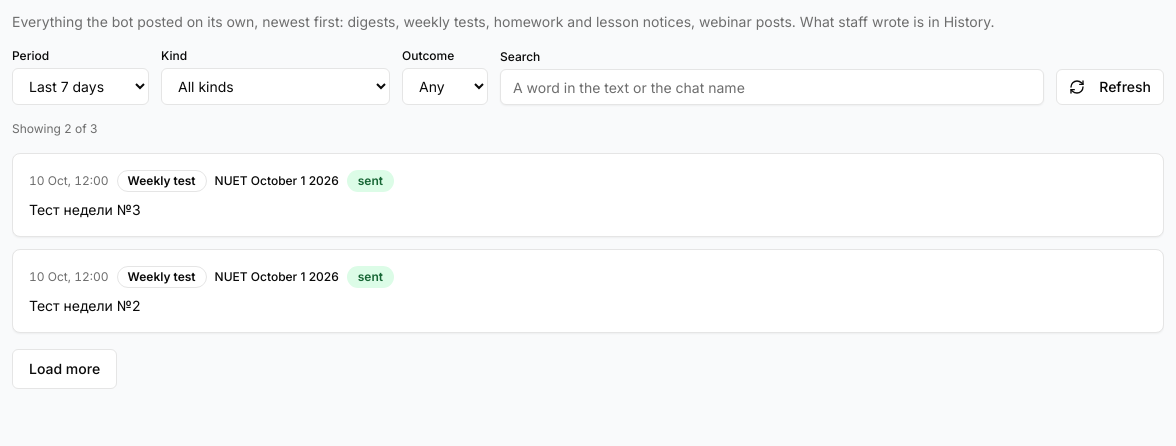
Test: automatic messages tab › loads the next page under the first and stops when everything is shown
Click the button "Load more" at (65, 369), box [12,349,117,389]
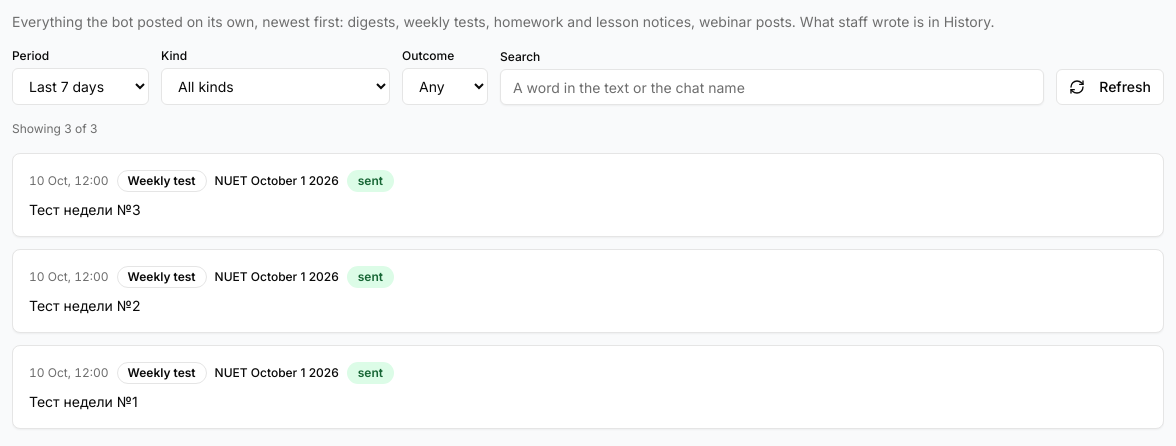
Expected: the text "Тест недели №1" is shown, [29,393,138,410]
Expected: the text "Showing 3 of 3" is shown, [12,121,98,136]
